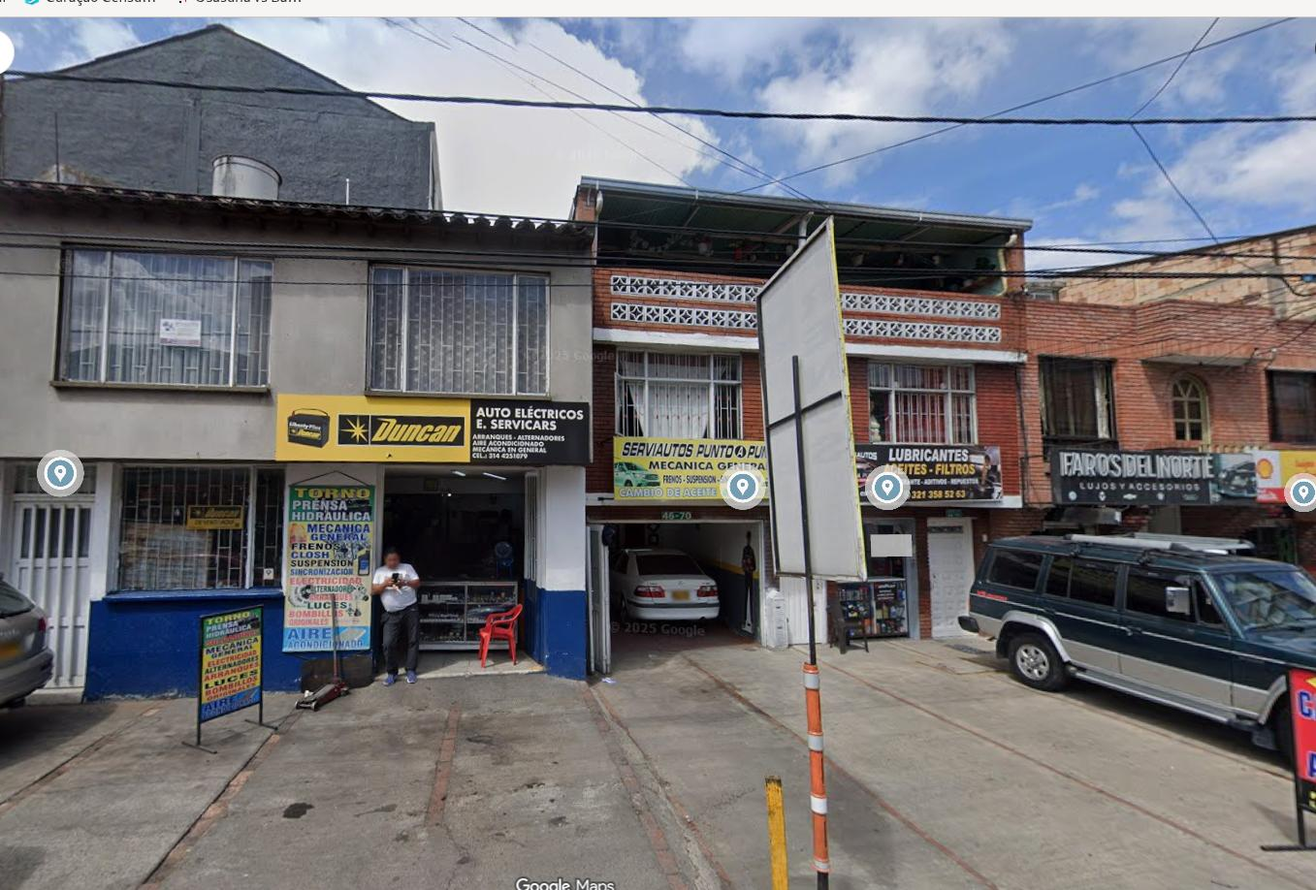casa: (0, 87, 600, 699), (573, 177, 1040, 656), (1022, 224, 1315, 510), (1134, 462, 1315, 568)
